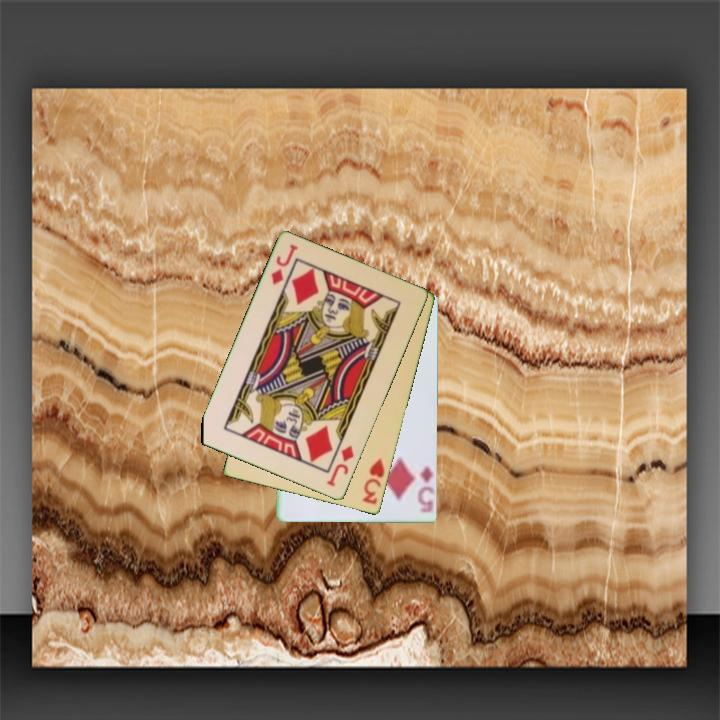3h: (359, 455, 387, 508)
5d: (415, 462, 436, 514)
Jd: (323, 442, 357, 490), (267, 241, 301, 288)
